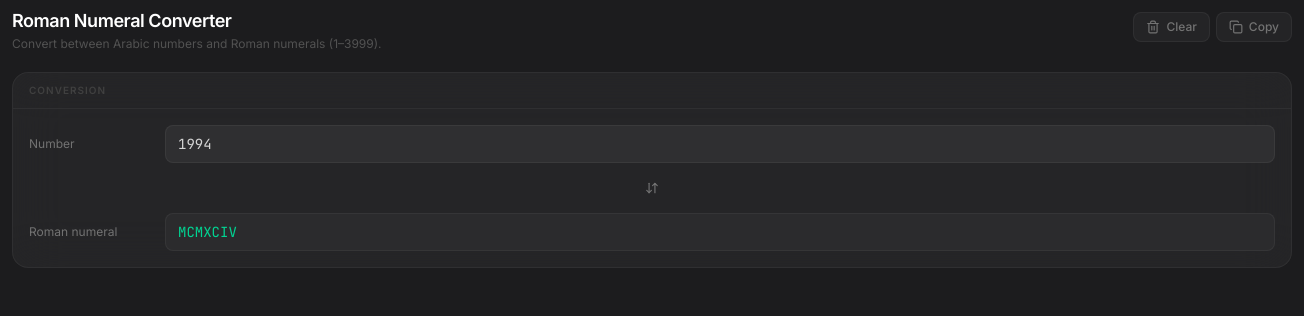
Scenario: RomanNumeralConverterTool › shows an error for an out-of-range number
This screenshot has width=1304, height=316.
Type "4000" into the field labelled "Number". click: point(720, 144)
box: [165,125,1275,163]
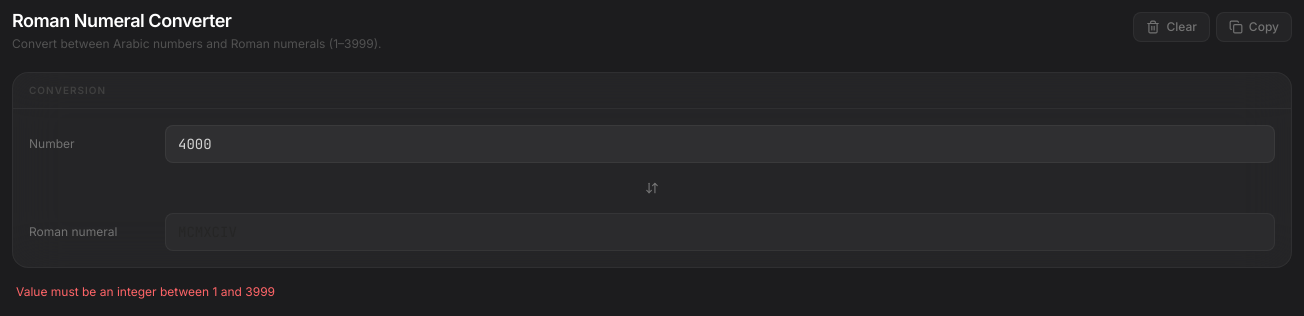
Expected: the text "Value must be an integer between 1 and 3999" is shown, [16,284,275,299]
